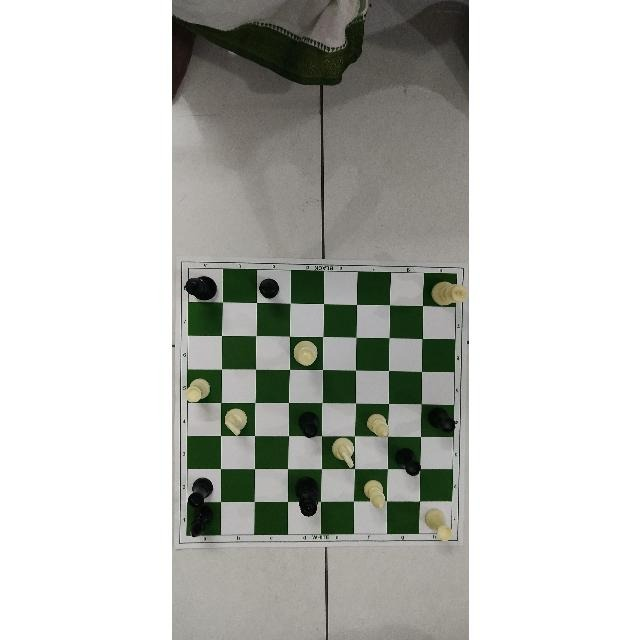black-bishop: (188, 506, 212, 537), (257, 278, 279, 298)
black-king: (184, 275, 216, 300)
black-queen: (294, 475, 318, 516)
black-rook: (187, 478, 212, 508), (428, 406, 455, 433), (395, 448, 421, 476), (298, 412, 320, 438)
white-bishop: (362, 479, 385, 509), (366, 412, 388, 437)
white-king: (430, 281, 467, 306)
white-knight: (329, 437, 354, 467), (223, 407, 246, 435)
white-queen: (292, 340, 317, 366)
white-rook: (424, 508, 452, 541), (184, 378, 209, 403)
